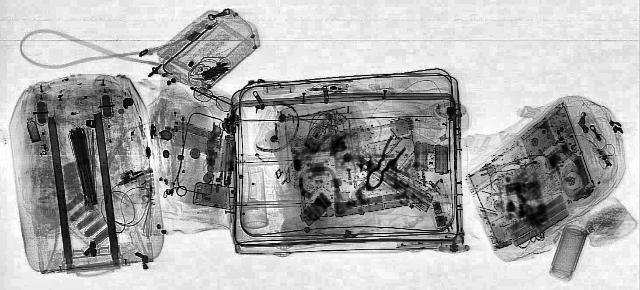Pliers: (356, 137, 410, 191)
